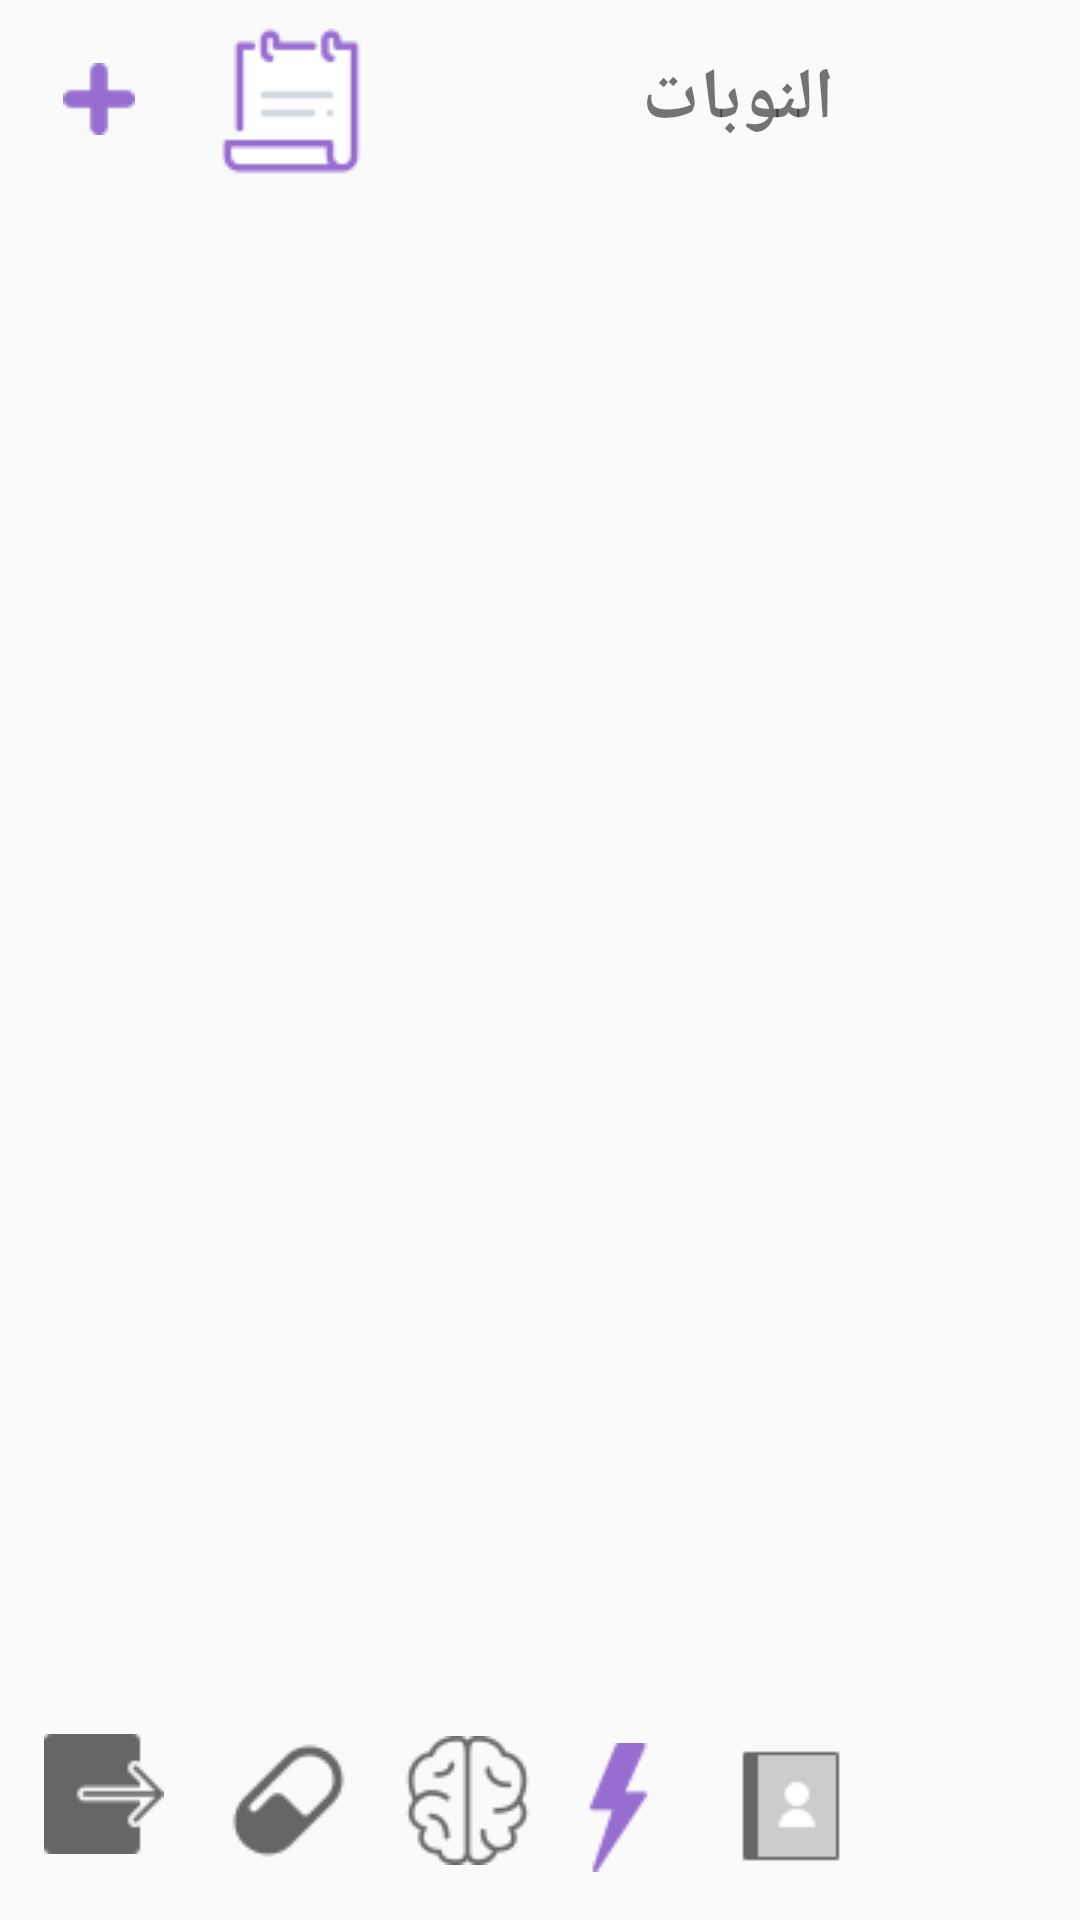

Named icons in this screenshot (1080*1920) and their centers, (x,y):
add: (99,99)
brain: (467,1800)
contacts: (791,1806)
exit: (104,1794)
pill: (288,1800)
